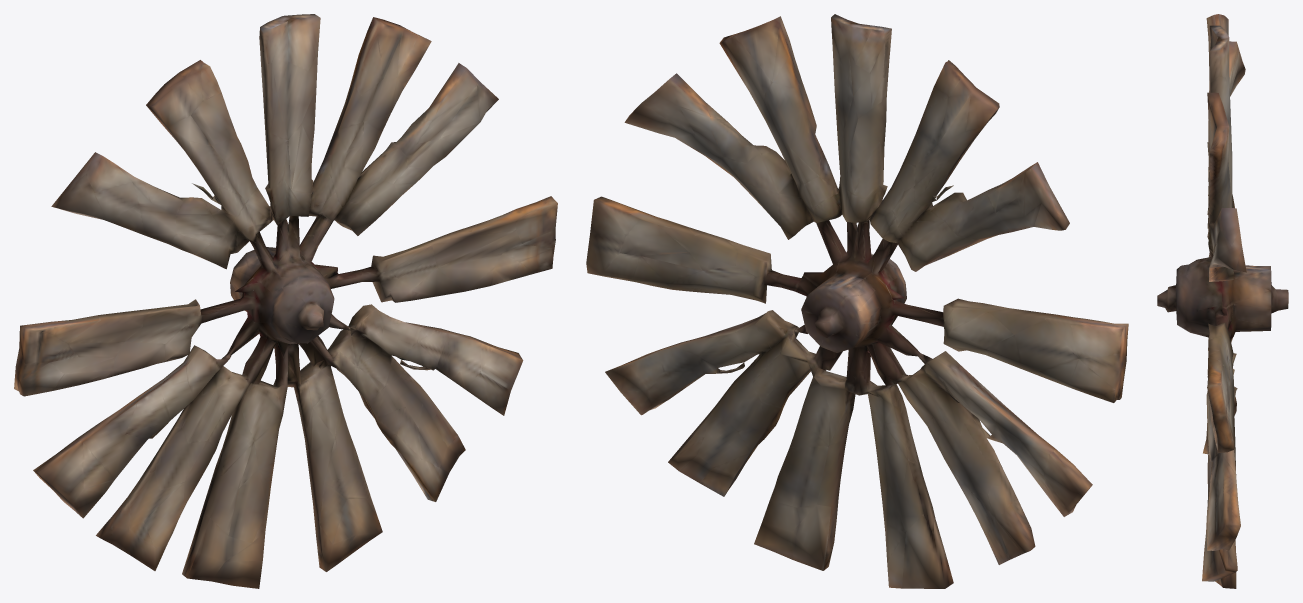
The model's file is rotor.obj.
3 renders of one model, left to right at view 1: azimuth 30°, elevation 25°; view 2: azimuth 150°, elevation 25°; view 3: azimuth 270°, elevation 25°, orthographic. The views are drawn at different scales.
Visible parts, largest first — view 1: model; view 2: model; view 3: model.
Part boxes in pixels (x1,y1,x2,y2): model: (14, 14, 557, 588); model: (586, 14, 1128, 588); model: (1157, 14, 1288, 588).
Size of the model in its own units: 2 by 2 by 0.4543.
